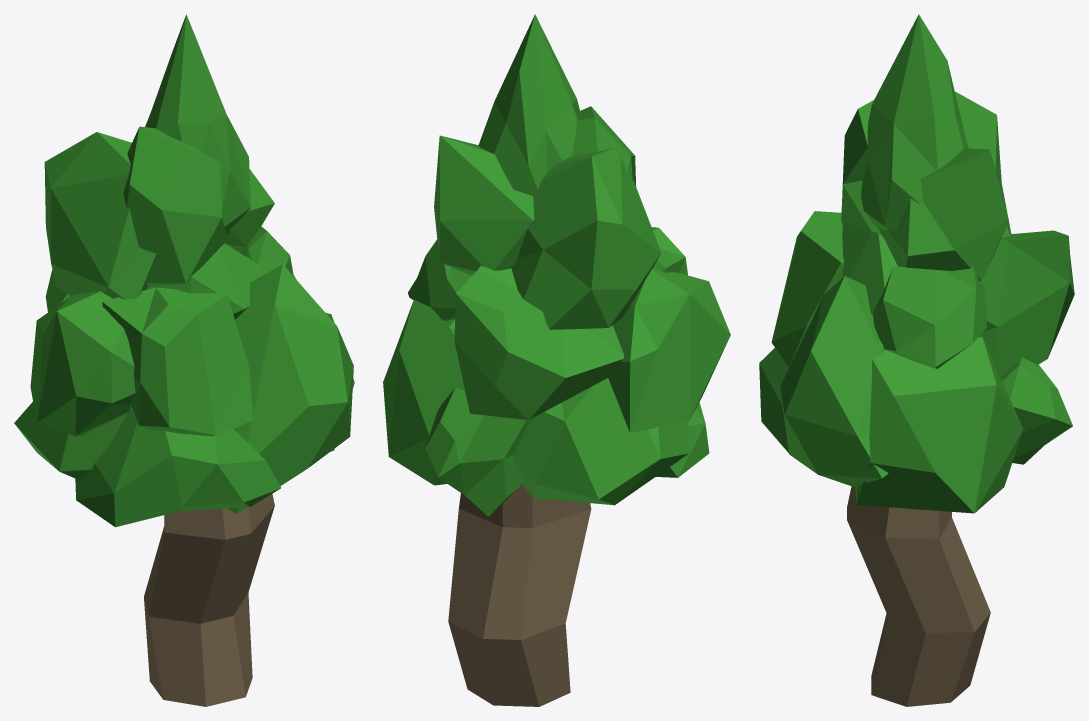
The model's file is Tree_02.fbx.
3 views of the same model, side by side, from view 1: azimuth 30°, elevation 25°; view 2: azimuth 150°, elevation 25°; view 3: azimuth 270°, elevation 25° (orthographic).
Parts seen in each view (by area): view 1: Wood.001, rock.051, rock.042, rock.048, rock.050, rock.041, rock.039, rock.038, rock.047, rock.049, rock.043, rock.040; view 2: Wood.001, rock.050, rock.044, rock.041, rock.047, rock.038, rock.043, rock.045, rock.046, rock.040, rock.039, rock.048 (+1 smaller); view 3: rock.045, Wood.001, rock.051, rock.038, rock.043, rock.044, rock.040, rock.042, rock.046, rock.049, rock.039, rock.050 (+1 smaller).
Part boxes in pixels (left/top/right/bottom): Wood.001: left=144, top=493, right=274, bottom=706; rock.051: left=228, top=264, right=353, bottom=513; rock.042: left=102, top=287, right=253, bottom=436; rock.048: left=75, top=411, right=280, bottom=527; rock.050: left=44, top=132, right=155, bottom=299; rock.041: left=30, top=291, right=135, bottom=436; rock.039: left=123, top=126, right=227, bottom=286; rock.038: left=145, top=14, right=250, bottom=235; rock.047: left=14, top=402, right=126, bottom=480; rock.049: left=146, top=243, right=263, bottom=319; rock.043: left=225, top=169, right=274, bottom=247; rock.040: left=231, top=226, right=296, bottom=279; Wood.001: left=448, top=483, right=591, bottom=706; rock.050: left=511, top=148, right=661, bottom=329; rock.044: left=454, top=265, right=623, bottom=419; rock.041: left=608, top=268, right=730, bottom=432; rock.047: left=513, top=378, right=688, bottom=505; rock.038: left=478, top=14, right=581, bottom=195; rock.043: left=434, top=135, right=534, bottom=275; rock.045: left=383, top=300, right=464, bottom=485; rock.046: left=425, top=387, right=528, bottom=516; rock.040: left=408, top=239, right=471, bottom=320; rock.039: left=571, top=106, right=636, bottom=186; rock.048: left=656, top=402, right=709, bottom=477; rock.045: left=855, top=336, right=1023, bottom=513; Wood.001: left=847, top=486, right=990, bottom=706; rock.051: left=780, top=276, right=888, bottom=486; rock.038: left=861, top=14, right=968, bottom=237; rock.043: left=879, top=148, right=1008, bottom=280; rock.044: left=979, top=230, right=1074, bottom=377; rock.040: left=873, top=265, right=986, bottom=369; rock.042: left=771, top=211, right=843, bottom=367; rock.046: left=1000, top=357, right=1072, bottom=464; rock.049: left=842, top=220, right=897, bottom=314; rock.039: left=841, top=100, right=879, bottom=233; rock.050: left=955, top=91, right=1011, bottom=237.
Bounding box in the file's own units: 451 × 969 × 417.
